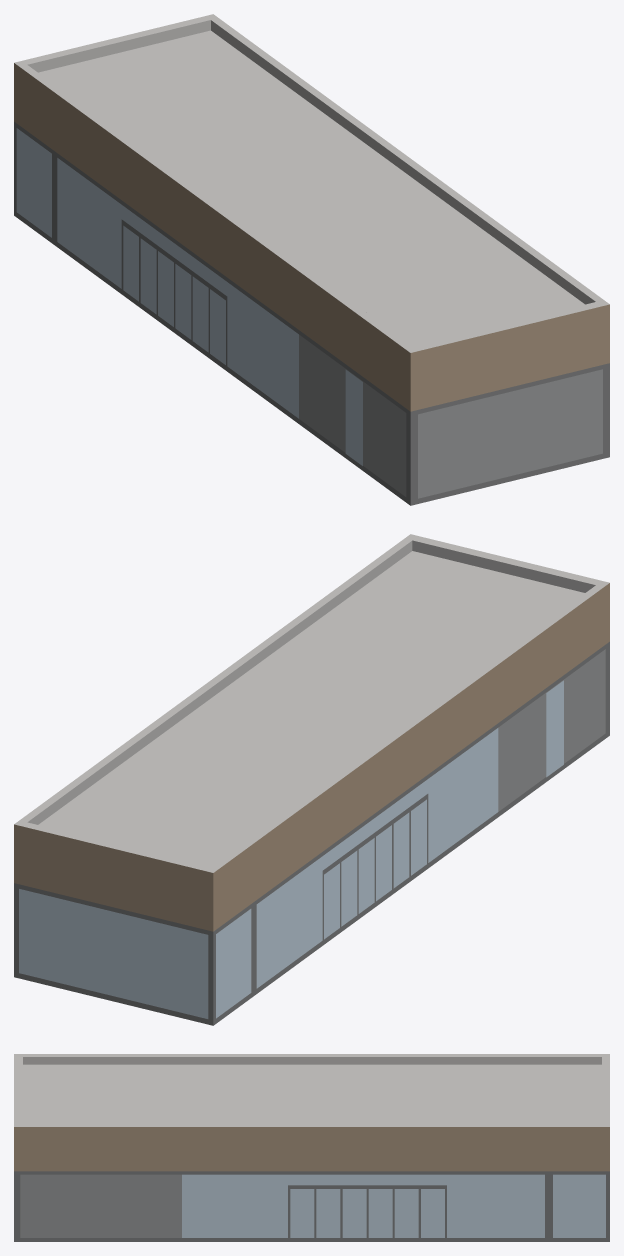
The model's file is omskheartjogalod.glb.
3 views of the same model, one above another, from view 1: azimuth 30°, elevation 25°; view 2: azimuth 150°, elevation 25°; view 3: azimuth 270°, elevation 25° (orthographic). The views are drawn at different scales.
Visible parts, largest first — view 1: omskheartjogalod; view 2: omskheartjogalod; view 3: omskheartjogalod.
Boxes of the visible parts, x1,y1,x2,y2 form: omskheartjogalod: [14, 14, 609, 505]; omskheartjogalod: [14, 534, 609, 1025]; omskheartjogalod: [14, 1054, 609, 1241].
Size of the model in its own units: 8.57 by 6.23 by 29.31.
1 material, 1 textured.
